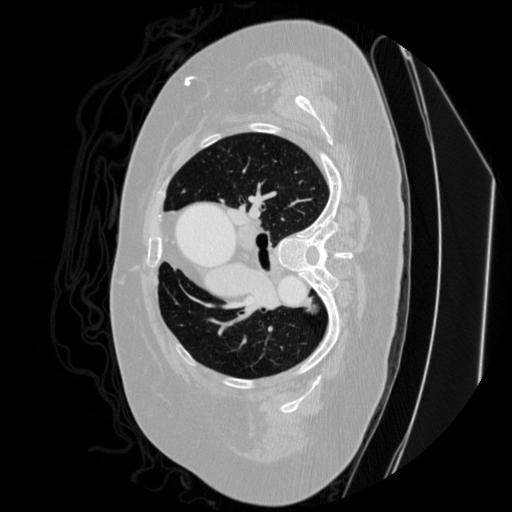nodule: (303, 299, 320, 316)
